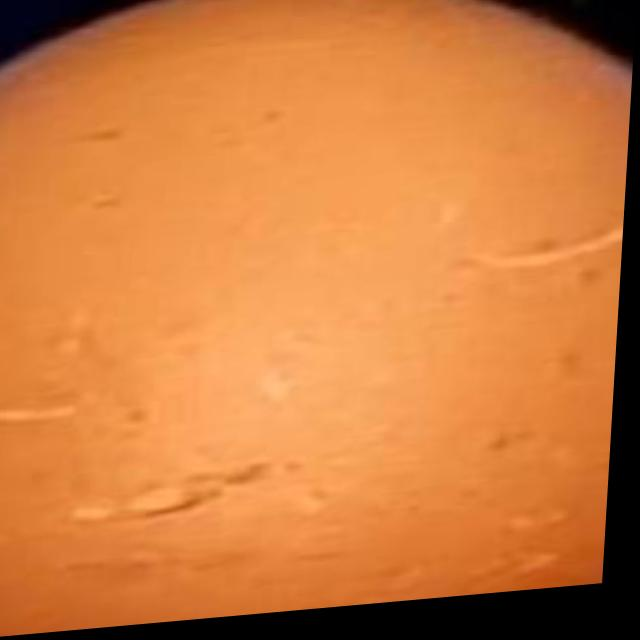unfresh: (0, 0, 638, 640)
